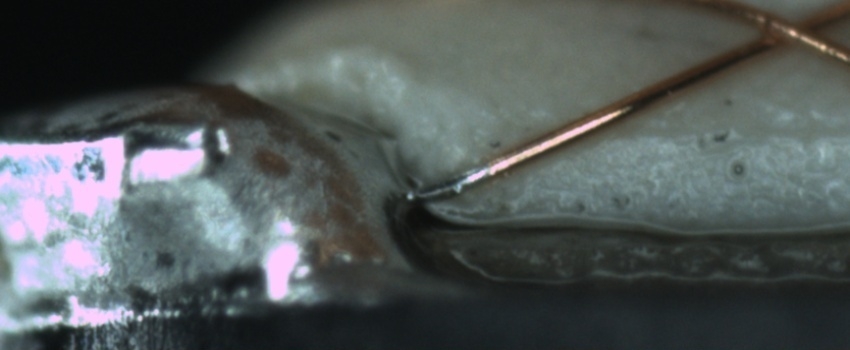CL: (743, 1, 842, 59)
DL: (613, 106, 849, 166)
TS: (408, 164, 496, 205)
